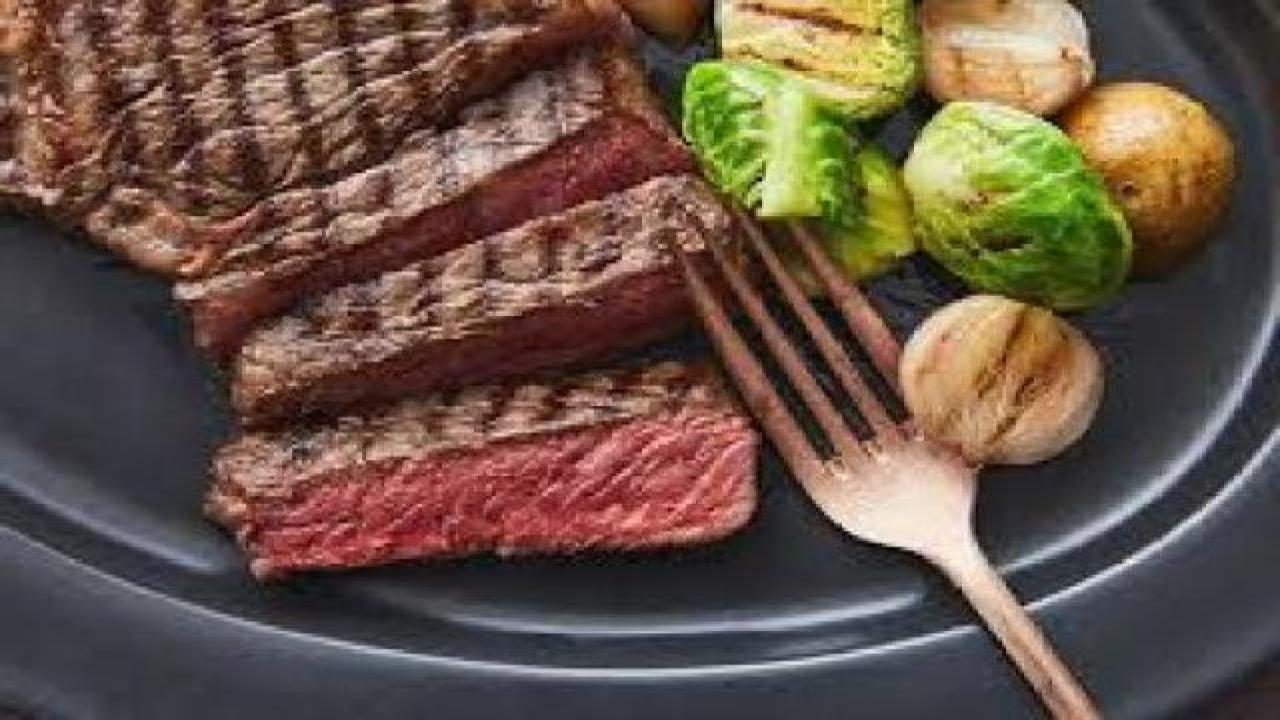done: (100, 49, 751, 357), (212, 176, 751, 434), (4, 15, 651, 158)
raw: (230, 437, 777, 558)
